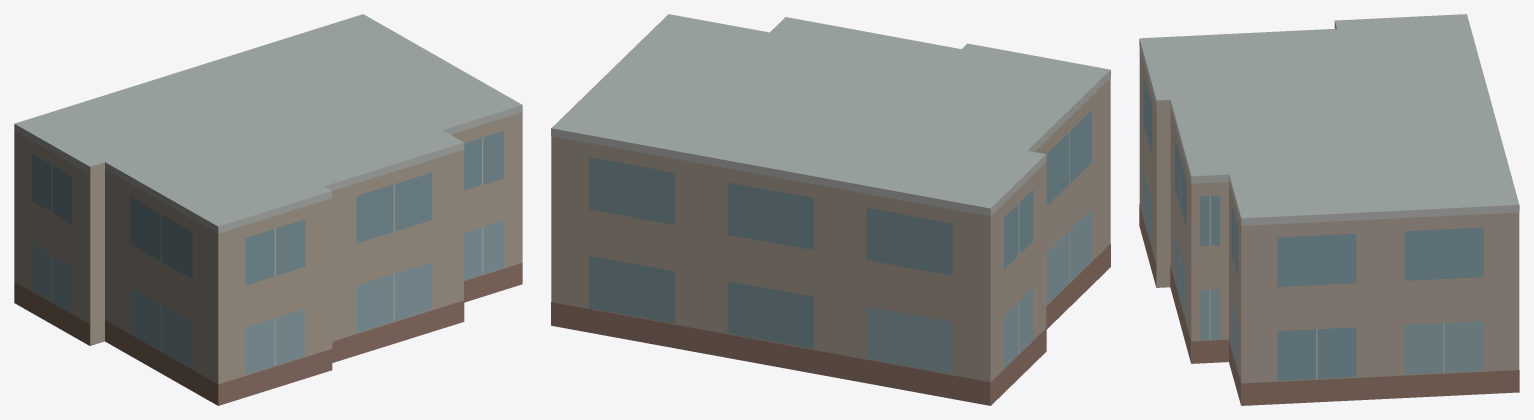
Rendered from survey-upis-32823248.glb.
3 views of the same model, side by side, from view 1: azimuth 30°, elevation 25°; view 2: azimuth 150°, elevation 25°; view 3: azimuth 270°, elevation 25° (orthographic). The views are drawn at different scales.
Visible parts, largest first — view 1: survey-upis-32823248.tmp; view 2: survey-upis-32823248.tmp; view 3: survey-upis-32823248.tmp.
Part boxes in pixels (box(x1,y1,x2,y2)): survey-upis-32823248.tmp: box(14, 14, 522, 405); survey-upis-32823248.tmp: box(551, 14, 1110, 405); survey-upis-32823248.tmp: box(1139, 14, 1519, 405).
Bounding box in the file's own units: 14.28 × 6.1 × 11.22.
